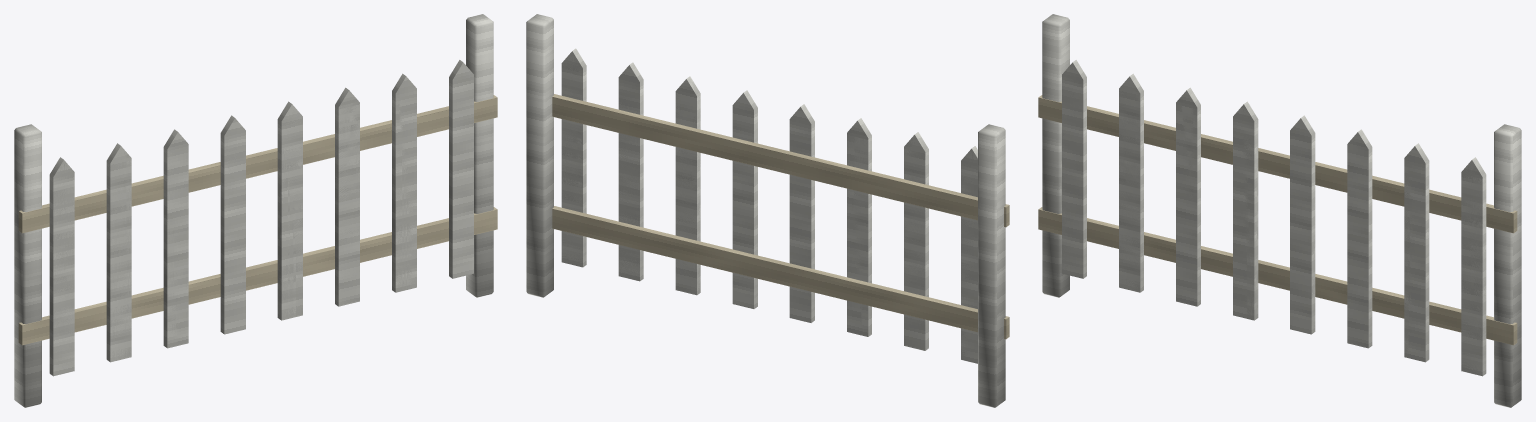
Rendered from cerca_branca.glb.
The picture shows the model from 3 angles, left to right: view 1: azimuth 30°, elevation 25°; view 2: azimuth 150°, elevation 25°; view 3: azimuth 330°, elevation 25°; orthographic projection.
Visible parts, largest first — view 1: Inteiro, Peca_04, Peca_05, Peca_06; view 2: Inteiro, Peca_04, Peca_06, Peca_05; view 3: Inteiro, Peca_06, Peca_04, Peca_05.
Boxes of the visible parts, <box> form: Inteiro: <box>14,14,497,407</box>; Peca_04: <box>49,129,188,375</box>; Peca_05: <box>226,87,359,320</box>; Peca_06: <box>395,63,472,291</box>; Inteiro: <box>526,14,1009,407</box>; Peca_04: <box>851,118,977,360</box>; Peca_06: <box>561,52,639,280</box>; Peca_05: <box>675,76,700,293</box>; Inteiro: <box>1038,14,1521,407</box>; Peca_06: <box>1404,143,1486,374</box>; Peca_04: <box>1062,66,1200,292</box>; Peca_05: <box>1239,102,1371,333</box>.
Size of the model in its own units: 2 by 1.1 by 0.11.
Materials: 1 (1 with a texture image).
